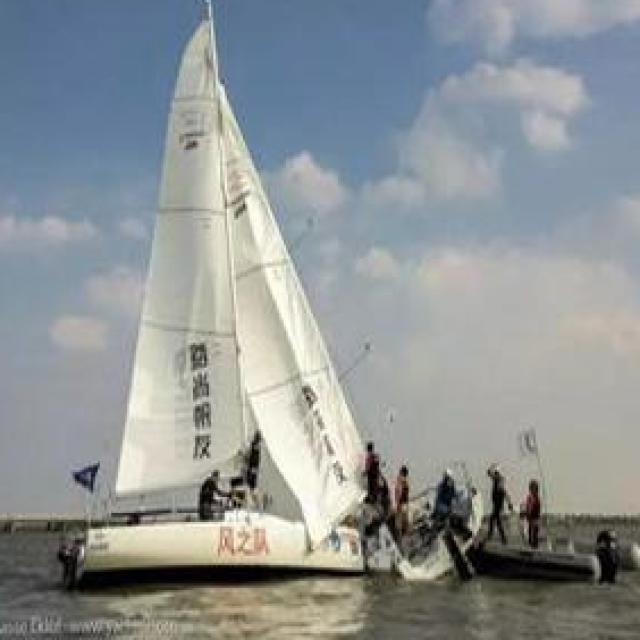sailboat: (62, 12, 436, 594)
